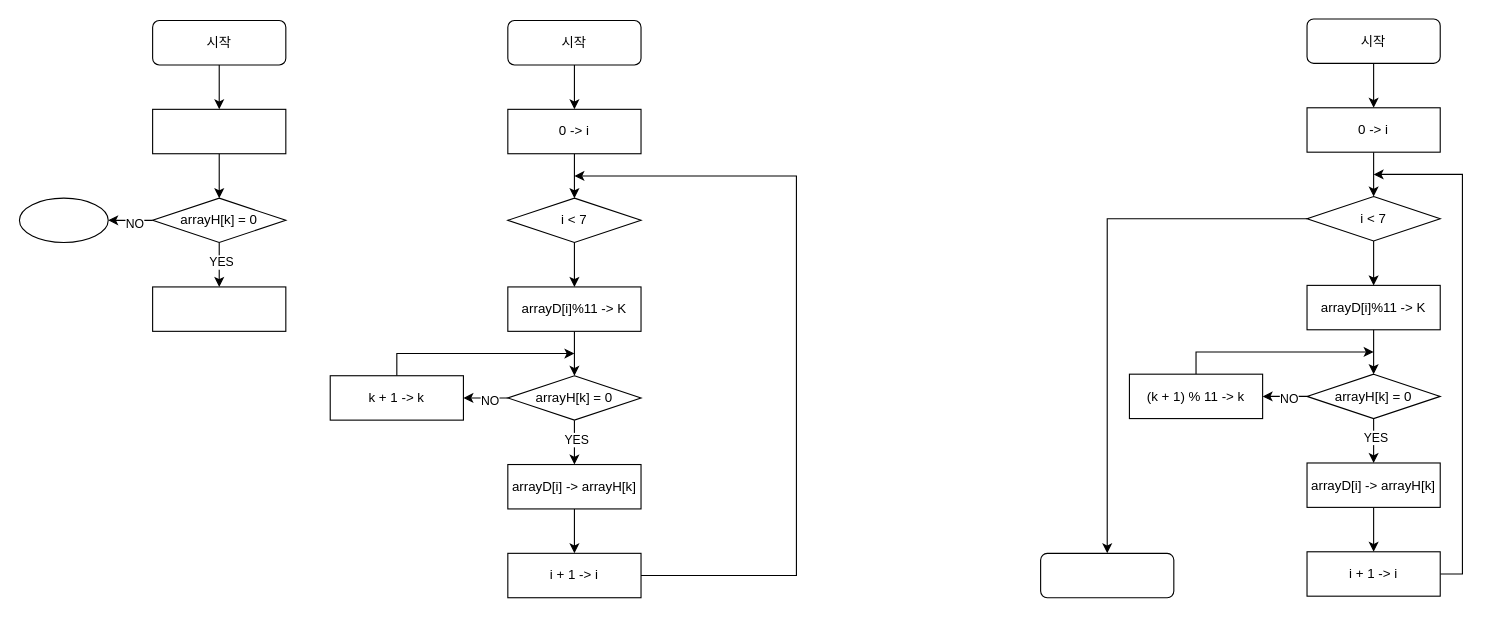
The diagram is 1491 pixels wide and 627 high, and some of its shapes have lost their labels. Each missing label, with the box of its shape:
arrayD[0] -> arrayH[k]: (152, 286, 286, 331)
arrayD[0]%11 -> K: (152, 108, 286, 154)
종료: (1040, 552, 1174, 598)
